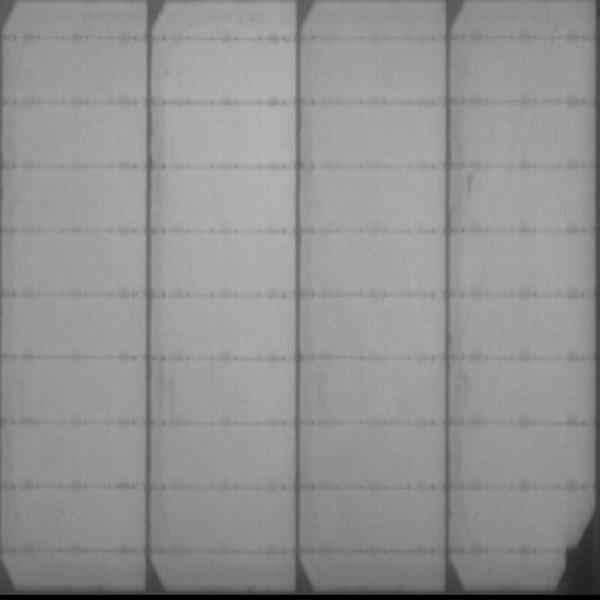broken: (551, 511, 598, 593)
